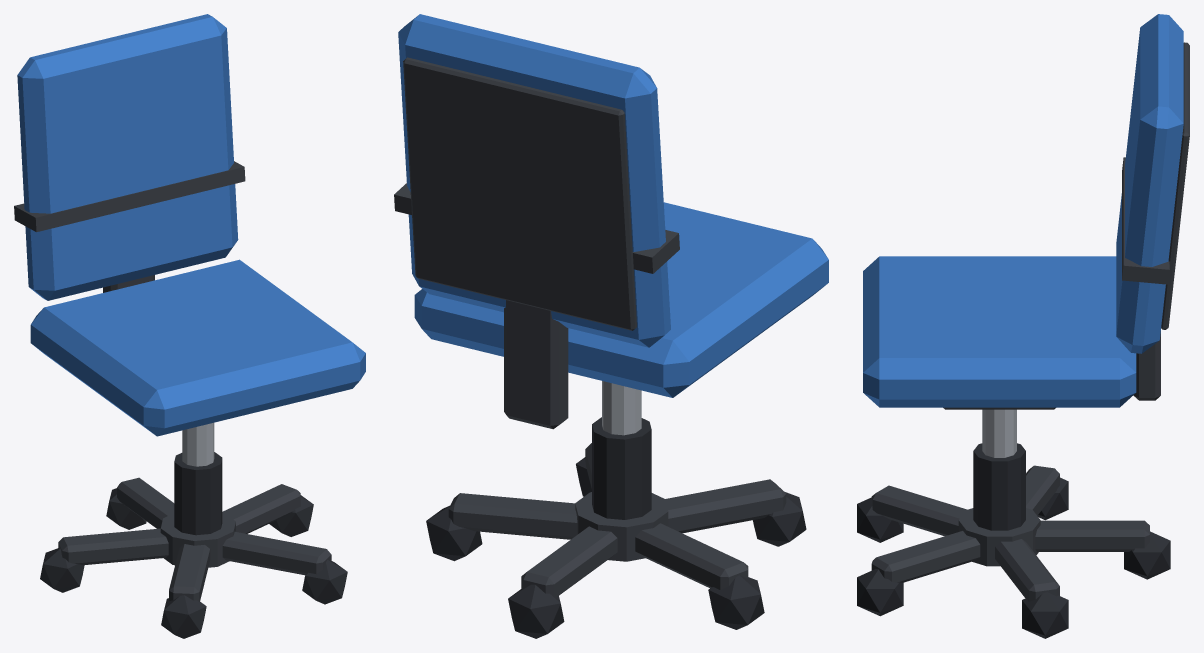
File: chair_core.glb
3 renders of one model, left to right at view 1: azimuth 30°, elevation 25°; view 2: azimuth 150°, elevation 25°; view 3: azimuth 270°, elevation 25°, orthographic. The views are drawn at different scales.
Parts seen in each view (by area): view 1: chair_core_mesh; view 2: chair_core_mesh; view 3: chair_core_mesh.
Part boxes in pixels (<box>): chair_core_mesh: <box>14,14,365,638</box>; chair_core_mesh: <box>394,14,828,638</box>; chair_core_mesh: <box>857,14,1189,638</box>.
Bounding box in the file's own units: 0.603 × 1.05 × 0.6091.
